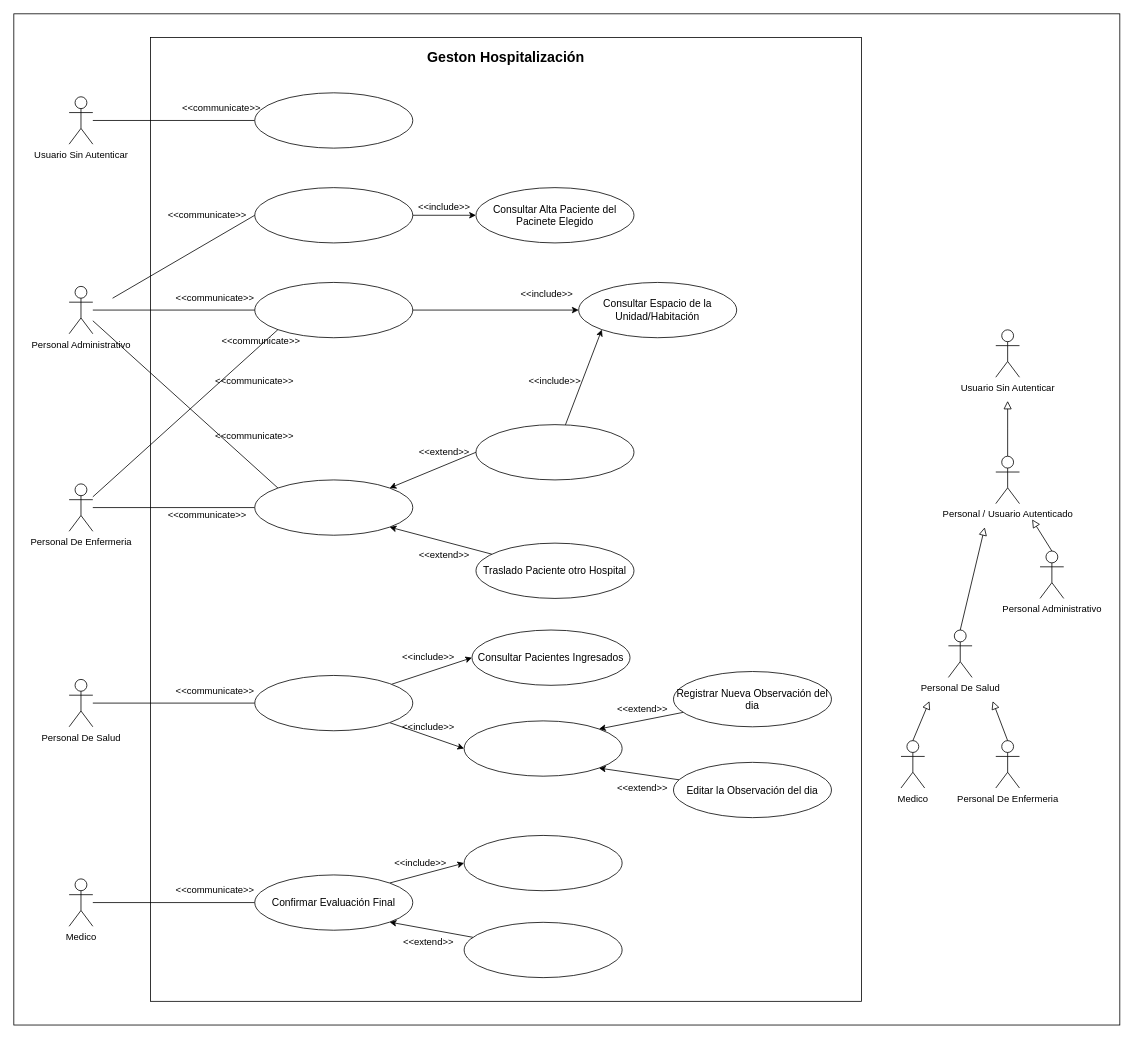
Image size: 1134x1039. Some labels were removed from this diagram. Each missing label, with the centre of its shape:
"Asignar Paciente" goes at point 333,310.
"Consulta Pacientes sin Alta con Ultima Ronda Medica Diaria Apta" goes at point 542,863.
"Documentar Alta" goes at point 333,215.
"Guardar Información de Ronda Medica Diaria de Paciente" goes at point 333,703.
"Iniciar Sesión" goes at point 333,120.
"Registra Alta del Paciente Elegido" goes at point 542,950.
"Registrar Observación del dia" goes at point 542,748.
"Traslado Paciente" goes at point 333,507.
"Traslado Paciente otra Unidad" goes at point 554,452.
